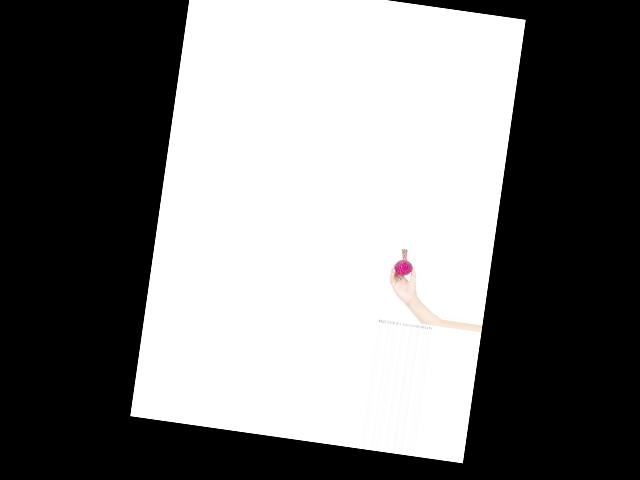beet: (392, 247, 414, 277)
